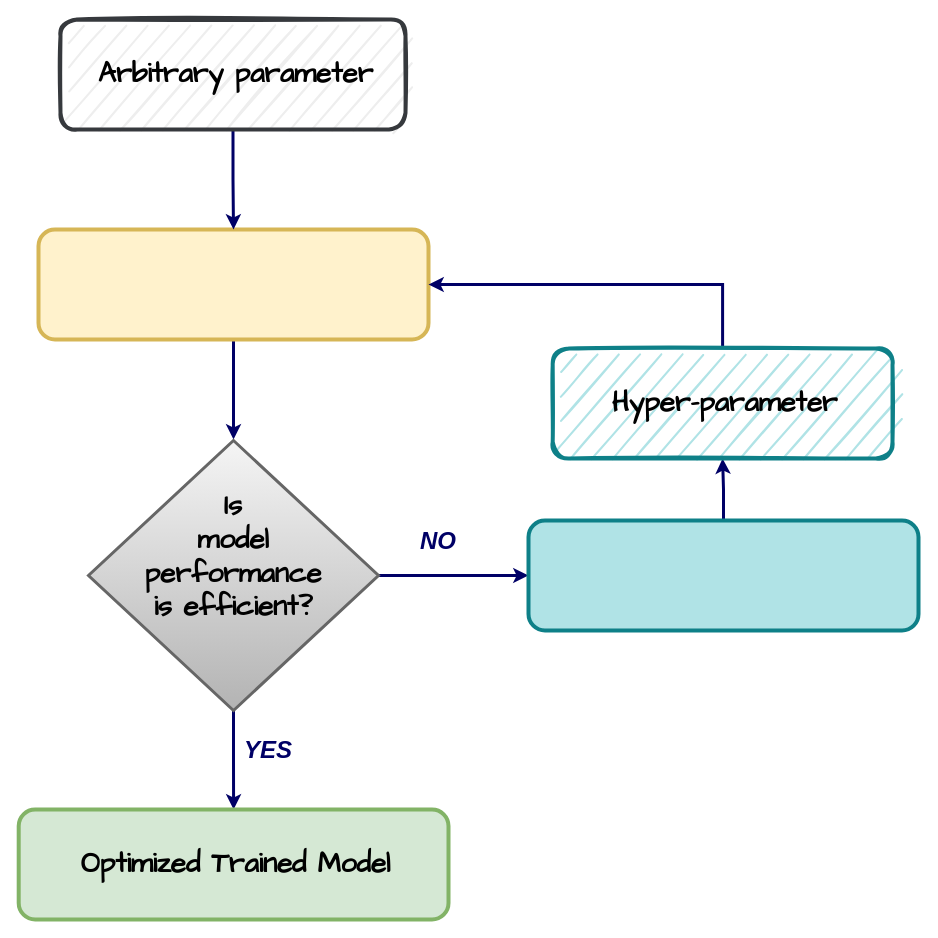
Some shapes in this 938 by 938 pixel diagram are drawn without their labels. The shapes that lost their labels are listed below. From the top down, each one's centre as x and y in pixels, then its label:
point 233,284: Model Training
point 723,575: Hyper-parameter Tuning
